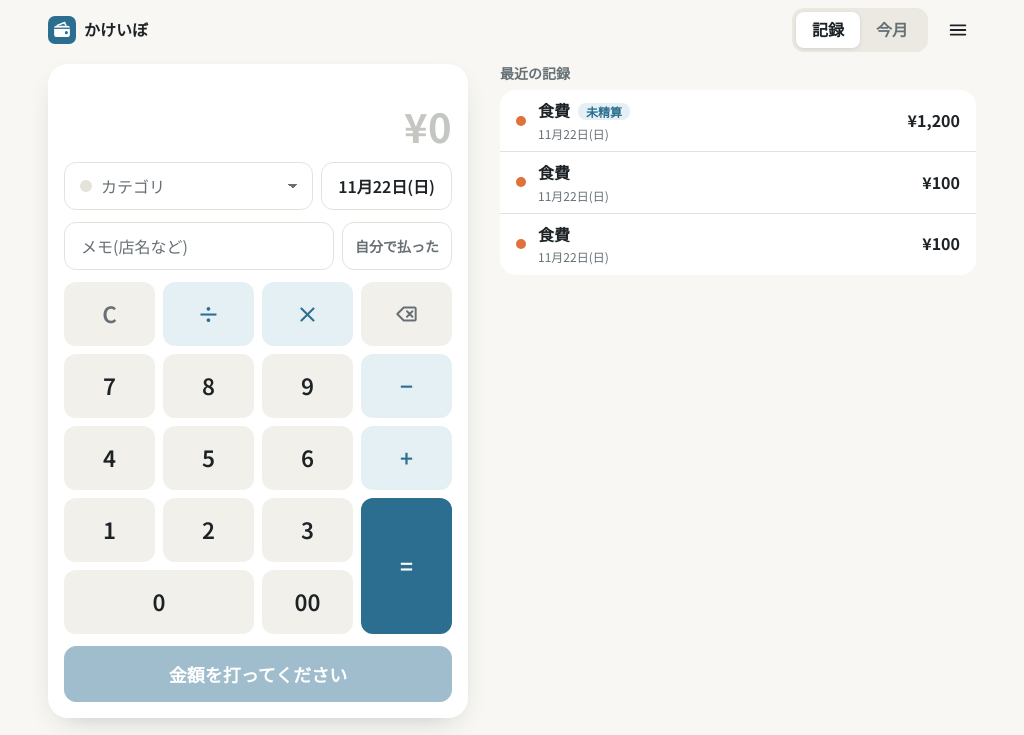
Scenario: 未精算 › 未精算の記録に印を付け、今月の画面に合計の入口を出す
The image size is (1024, 735).
What coordinates should you click on to do the following:
click the button "今月"
I would click on:
 (892, 30)
Its box is [860,12,924,48].
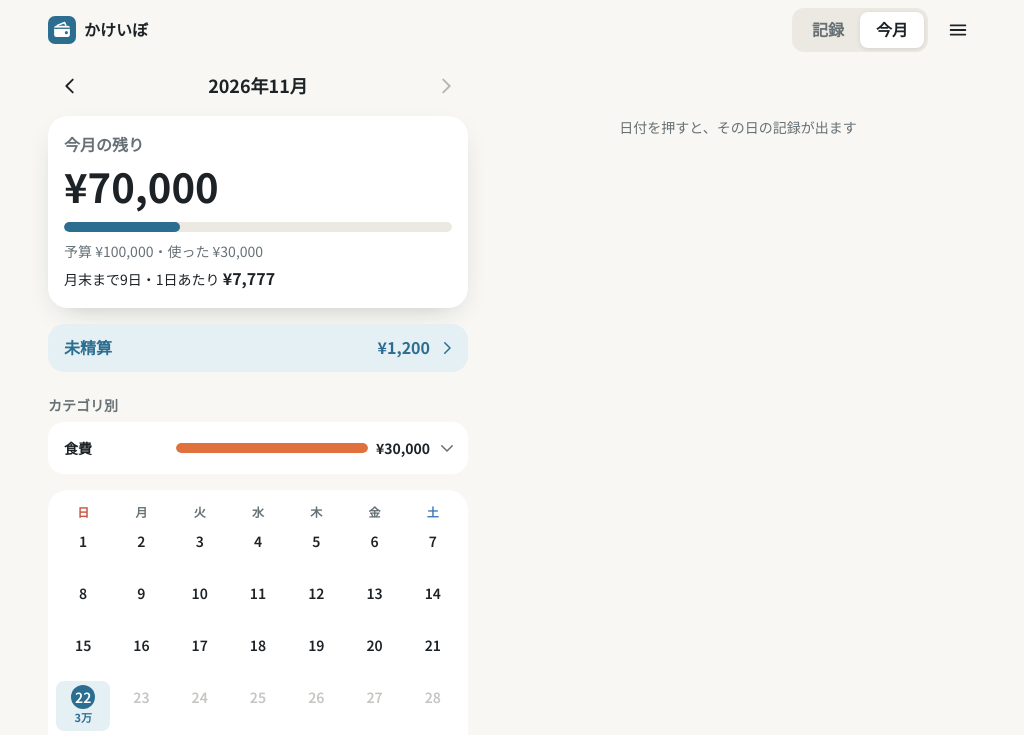
Expected: the button with class "unsettled-link" reads "未精算 ¥1,200", [48,324,468,372]
